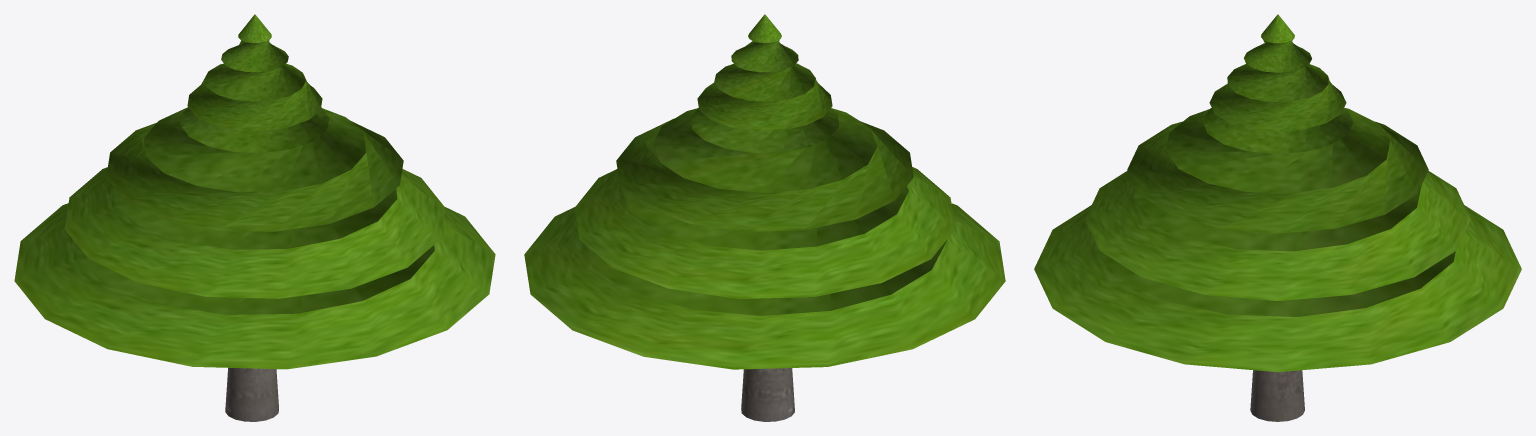
The model's file is tree2.obj.
The picture shows the model from 3 angles, left to right: view 1: azimuth 30°, elevation 25°; view 2: azimuth 150°, elevation 25°; view 3: azimuth 270°, elevation 25°; orthographic projection.
Visible parts, largest first — view 1: ???.4, ???.1, ???.3, ???, ???.2; view 2: ???.4, ???.1, ???.3, ???, ???.2; view 3: ???.4, ???.1, ???.3, ???, ???.2.
Part boxes in pixels (x1,y1,x2,y2): ???.4: [14, 203, 495, 369]; ???.1: [106, 107, 403, 231]; ???.3: [64, 167, 445, 298]; ???: [187, 14, 322, 130]; ???.2: [225, 368, 278, 421]; ???.4: [524, 203, 1005, 369]; ???.1: [616, 108, 913, 231]; ???.3: [574, 167, 955, 298]; ???: [697, 14, 832, 130]; ???.2: [741, 368, 794, 421]; ???.4: [1034, 205, 1521, 372]; ???.1: [1127, 107, 1428, 233]; ???.3: [1085, 171, 1470, 300]; ???: [1209, 14, 1346, 131]; ???.2: [1250, 370, 1304, 421].
Bounding box in the file's own units: 193 × 174 × 193.
